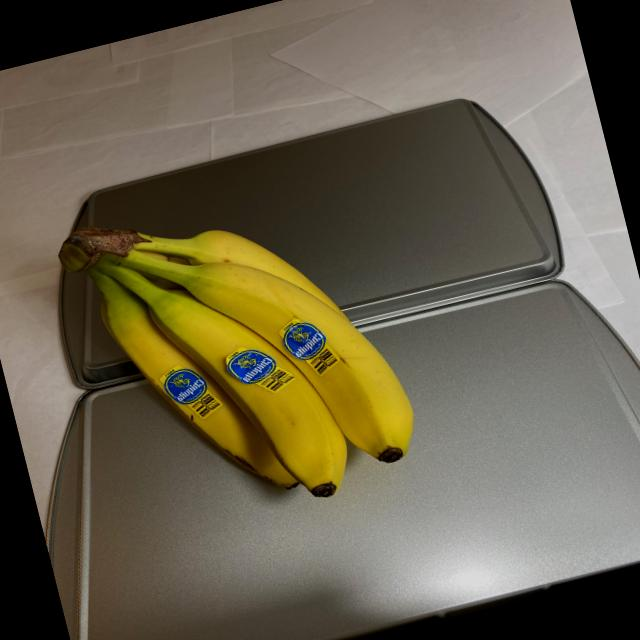banana: (41, 155, 434, 555)
